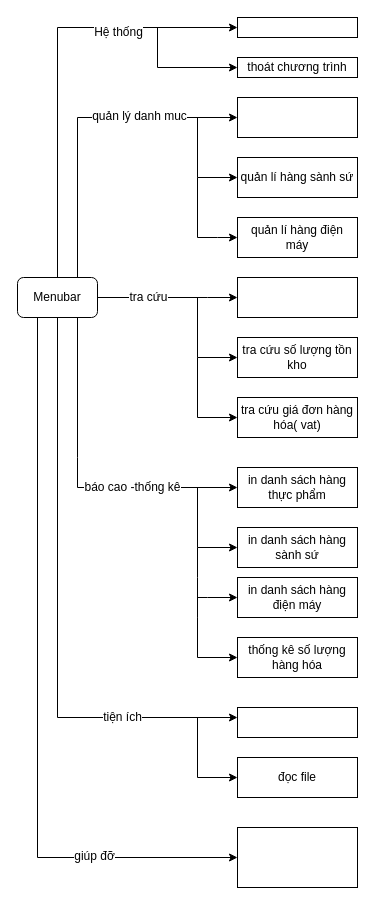
Some shapes in this 375 by 905 pixel diagram are drawn without their labels. Here are the shapes that lost their labels. From the top down, the box of each, then its label:
(236, 16, 358, 38): quản lí hàng hóa
(236, 96, 358, 138): quản lí hàng thực phẩm
(236, 276, 358, 318): tra cứu danh sách hàng hóa
(236, 706, 358, 738): xuất file txt
(236, 826, 358, 888): giới thiệu chương trình
